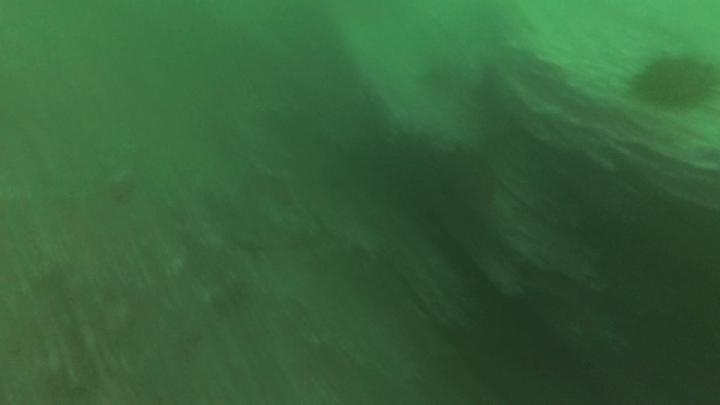echinus: (630, 48, 718, 113)
